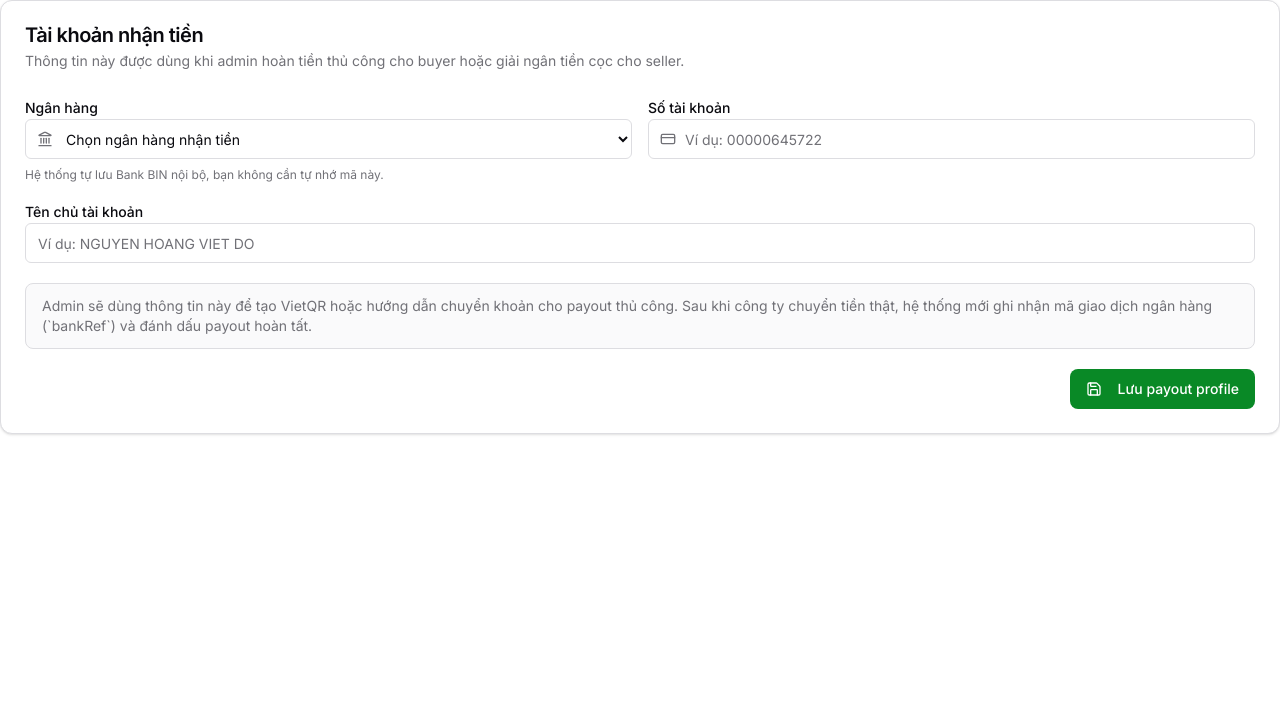
it: PayoutProfileSection › submits the payout profile with bank name and bank bin auto-filled from the selected bank
Select "TPBank" in the dropdown labelled "Ngân hàng" at (328, 139), box x1=25 y1=119 x2=632 y2=159
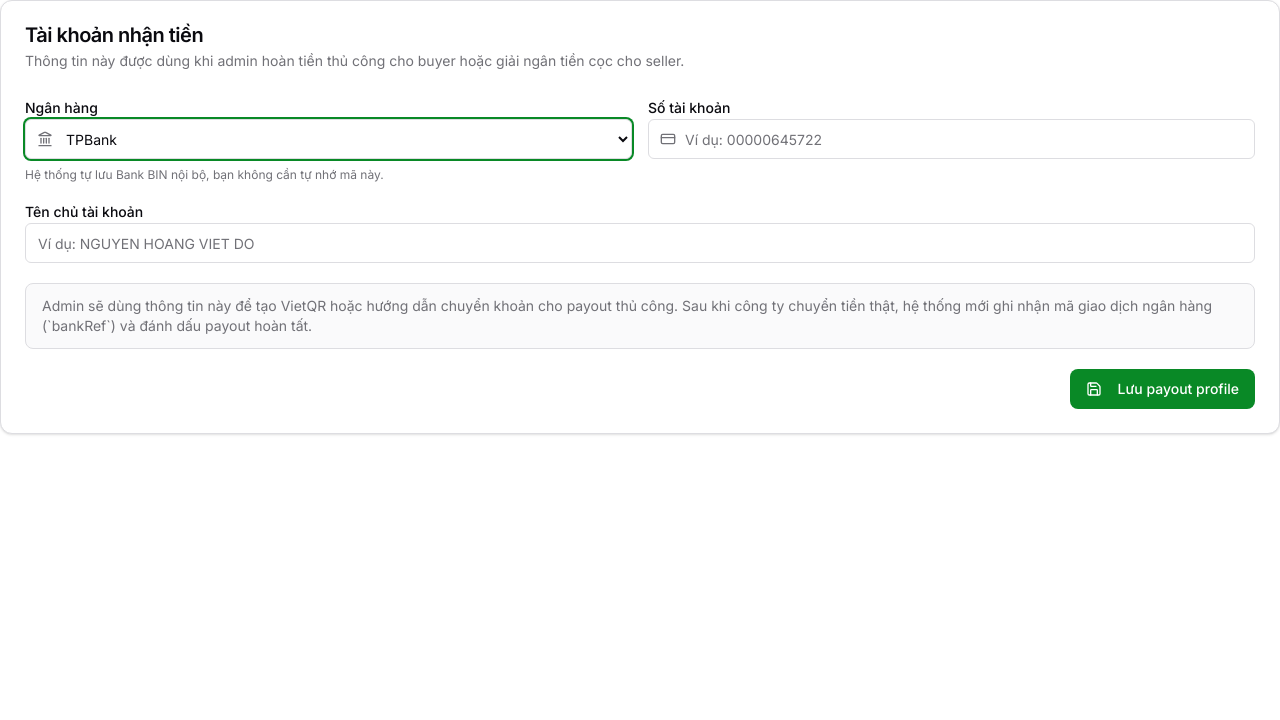
Type "00000645722" into the field with placeholder "Ví dụ: 00000645722".
click(952, 139); type("00000645722")  # box x1=648 y1=119 x2=1255 y2=159
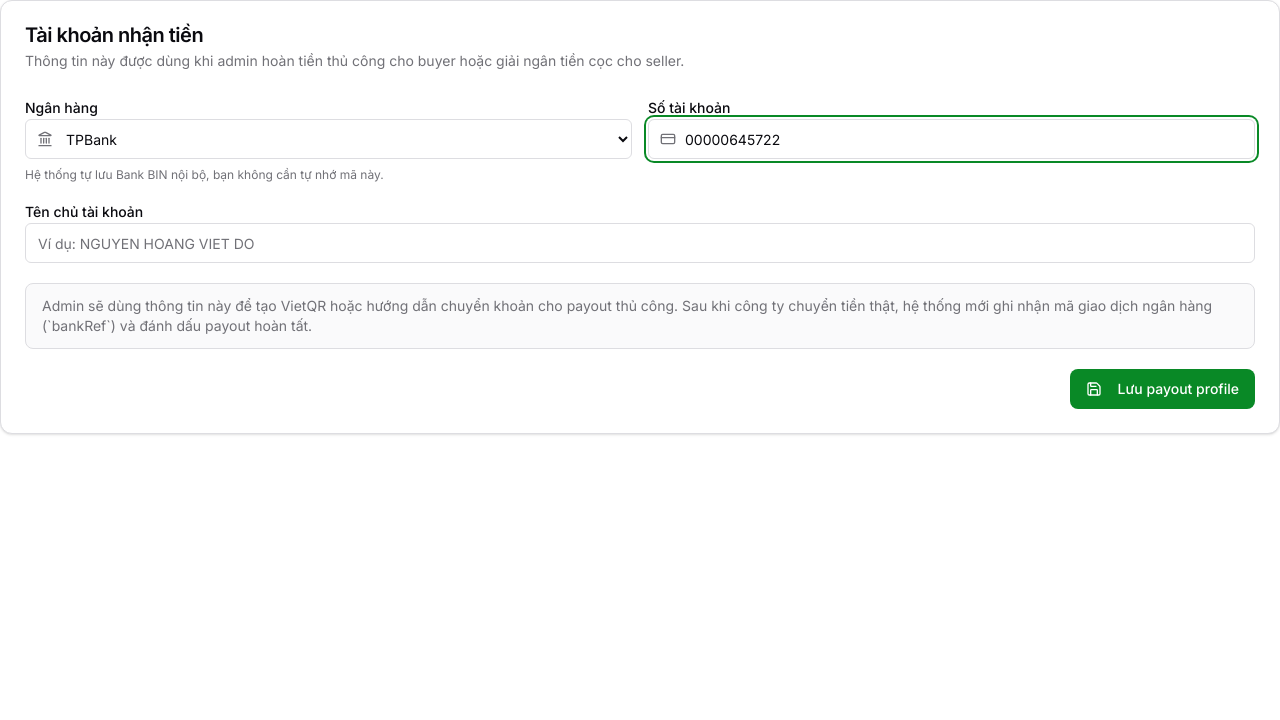
Type "NGUYEN HOANG VIET DO" into the field with placeholder "Ví dụ: NGUYEN HOANG VIET DO".
click(640, 243); type("NGUYEN HOANG VIET DO")  # box x1=25 y1=223 x2=1255 y2=263
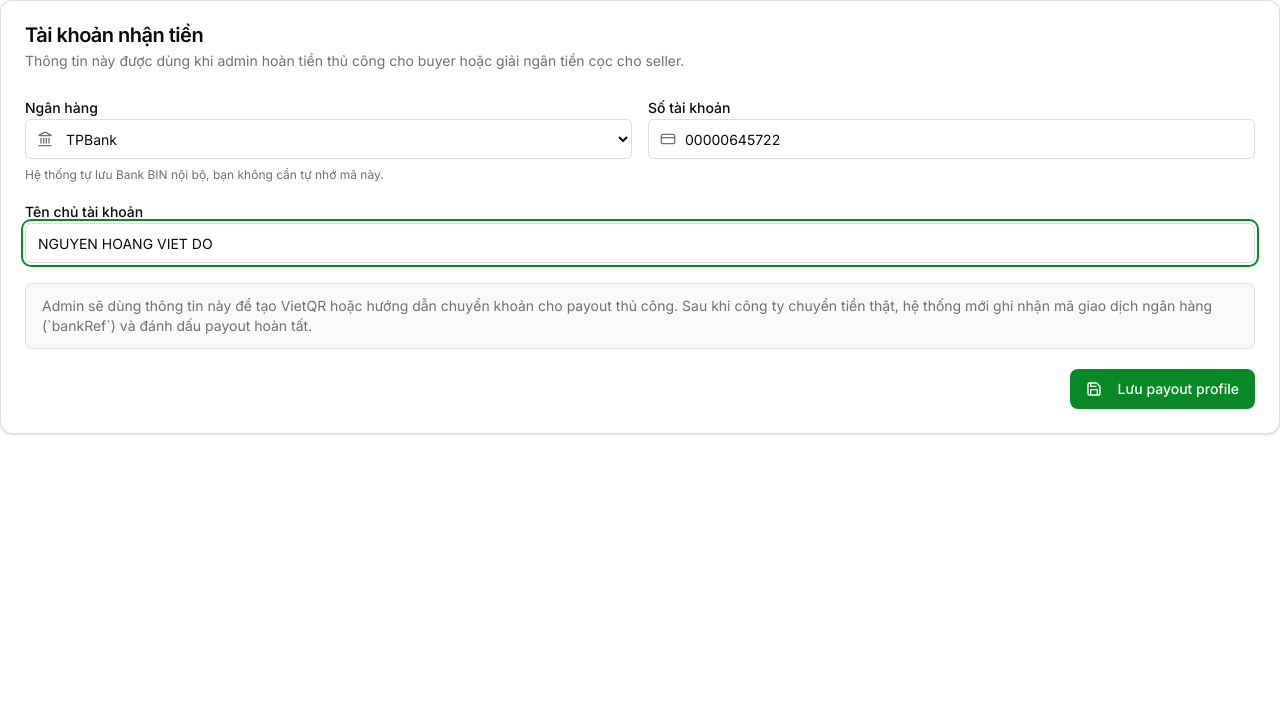
Click the button "Lưu payout profile".
click(1162, 389)  # box x1=1070 y1=369 x2=1255 y2=409
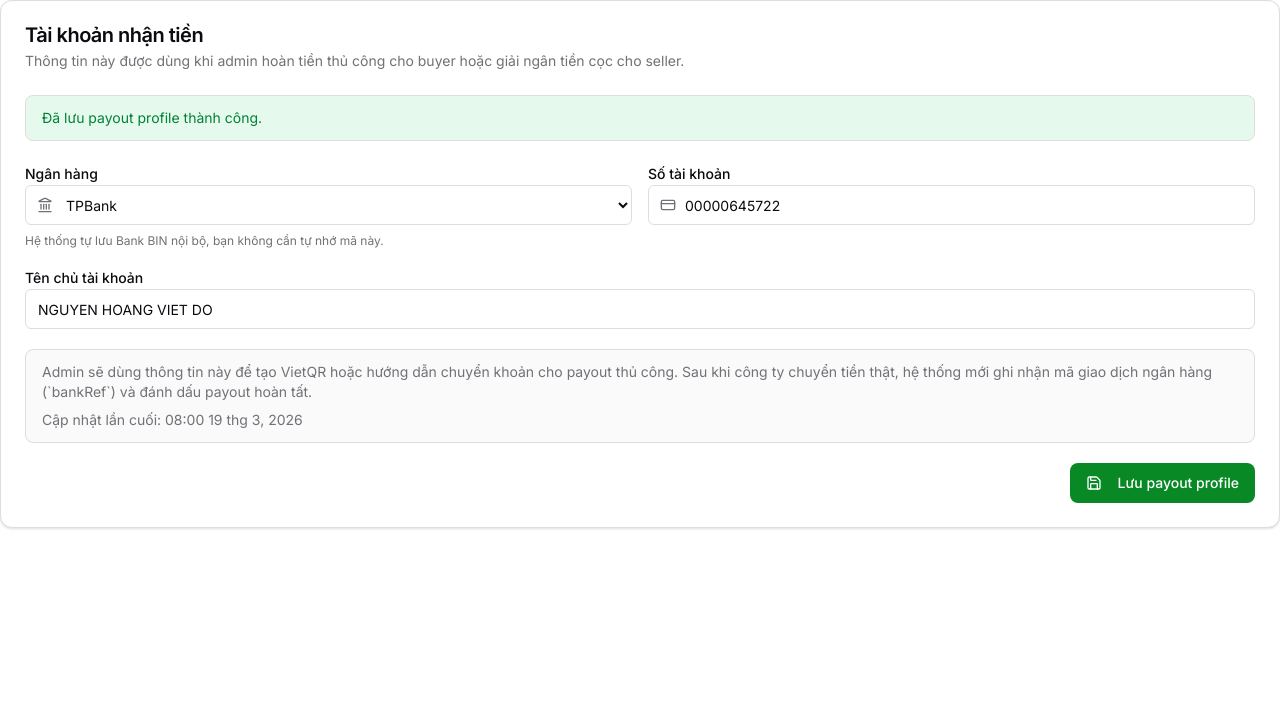
Check: the text "Đã lưu payout profile thành công." is shown, box x1=25 y1=95 x2=1255 y2=141
